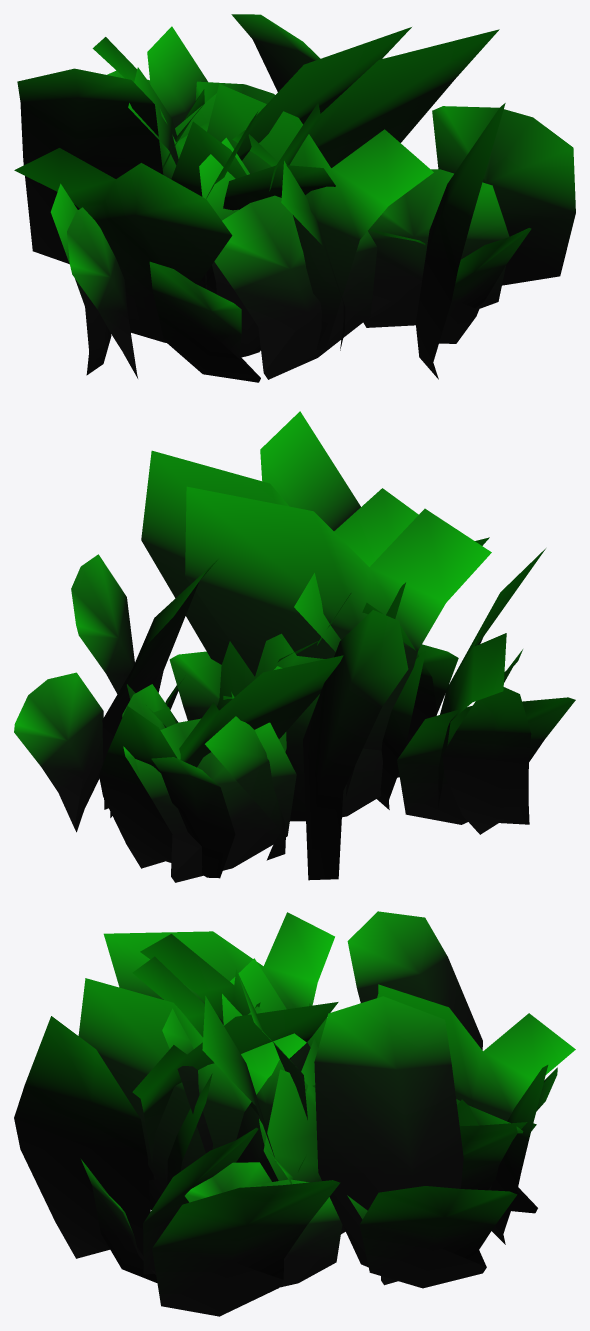
Rendered from SM_Grass_01.fbx.
3 views of the same model, one above another, from view 1: azimuth 30°, elevation 25°; view 2: azimuth 150°, elevation 25°; view 3: azimuth 270°, elevation 25° (orthographic). The views are drawn at different scales.
Visible parts, largest first — view 1: SM_Grass_01; view 2: SM_Grass_01; view 3: SM_Grass_01.
Part boxes in pixels (x1,y1,x2,y2): SM_Grass_01: (14,14,575,382); SM_Grass_01: (14,411,575,882); SM_Grass_01: (14,911,575,1316).
Bounding box in the file's own units: 57.55 × 30.81 × 58.33.
